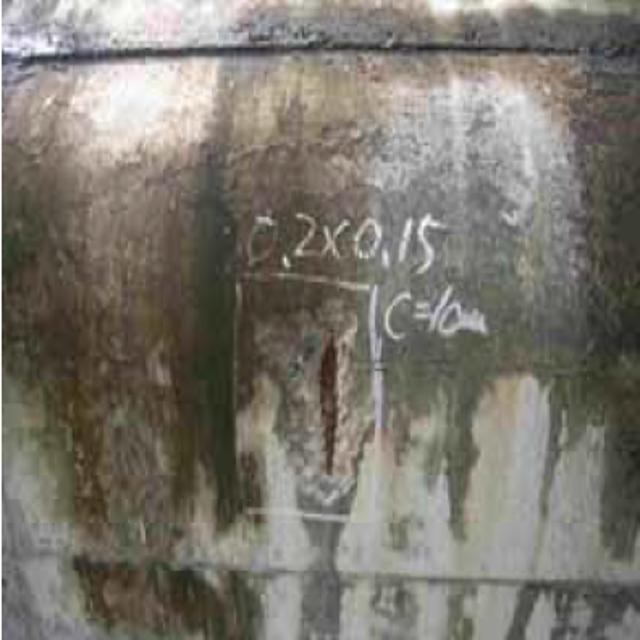spalling: (254, 300, 380, 510)
